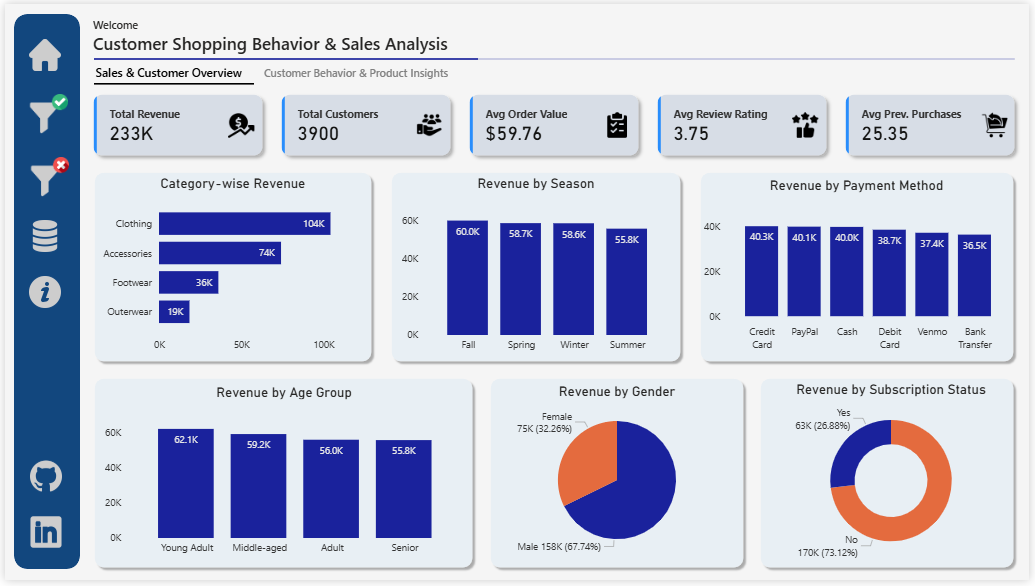

The page's visual inventory and layout, read from the dashboard file:
{"tool":"powerbi","page":{"name":"Sales & Customer Overview","canvas":[1280,720],"ordinal":0},"visuals":[{"type":"shape","box":[11.2,12.5,82.5,693.8],"z":0,"group":"g1"},{"type":"pageNavigator","box":[111.2,68.8,200,32.5],"z":0,"group":"g2"},{"type":"cardVisual","fields":{"Data":["customer.Total Revenue","customer.Total Customers","customer.Avg_Order_Value","customer.Avg Review Rating","customer.avg_previous_purchases"]},"box":[93.8,96.2,1186.2,110],"z":0},{"type":"textbox","box":[105,12.5,486.2,62.5],"z":1000},{"type":"pageNavigator","box":[323.7,68.8,267.5,32.5],"z":1000,"group":"g2"},{"type":"image","box":[20.4,265.6,60,49.8],"z":1000,"group":"g1"},{"type":"image","box":[20.2,38.3,59.6,49.5],"z":2000,"group":"g1"},{"type":"shape","box":[476.2,203.8,375,250],"z":2000},{"type":"image","title":"Clear Filter","box":[24.5,186.3,60,60],"z":3000,"group":"g1"},{"type":"shape","box":[599.4,461.2,330,250],"z":3000},{"type":"image","title":"Applied Filter","box":[24.1,107,60.3,60],"z":4000,"group":"g1"},{"type":"shape","box":[862.5,203.8,405,250],"z":4000},{"type":"shape","box":[105,203.8,360,250],"z":5000},{"type":"image","box":[20.4,334.7,60,49.8],"z":5000,"group":"g1"},{"type":"shape","box":[937.5,461.2,330,250],"z":6000},{"type":"image","box":[21.3,634.5,59.6,49.5],"z":6000,"group":"g1"},{"type":"shape","box":[105,461.2,486.2,250],"z":7000},{"type":"image","box":[21.3,564.7,59.6,49.5],"z":7000,"group":"g1"},{"type":"pieChart","title":"Revenue by Gender","fields":{"Y":["customer.Total Revenue"],"Category":["customer.gender"]},"box":[592.5,473.8,345,223.8],"z":8000},{"type":"donutChart","title":"Revenue by Subscription Status","fields":{"Y":["customer.Total Revenue"],"Category":["customer.subscription_status"]},"box":[935,471.2,345,230],"z":9000},{"type":"clusteredBarChart","title":"Category-wise Revenue","fields":{"Category":["customer.category"],"Y":["customer.Total Revenue"]},"box":[112.5,213.8,345,230],"z":10000},{"type":"columnChart","title":"Revenue by Season","fields":{"Y":["customer.Total Revenue"],"Category":["customer.season"]},"box":[491.2,213.8,345,230],"z":11000},{"type":"columnChart","title":"Revenue by Age Group","fields":{"Category":["customer.age_group"],"Y":["customer.Total Revenue"]},"box":[120,475,457.5,222.5],"z":12000},{"type":"shape","box":[111.2,62.5,1151.2,12.5],"z":13000},{"type":"shape","box":[111.2,62.5,480,12.5],"z":14000},{"type":"columnChart","title":"Revenue by Payment Method","fields":{"Category":["customer.payment_method"],"Y":["customer.Total Revenue"]},"box":[868.8,216.2,391.2,225],"z":15000},{"type":"group","id":"g1","title":"Sidebar","box":[11.2,12.5,82.5,693.8],"z":16000},{"type":"group","id":"g2","title":"Page Navigator","box":[111.2,68.8,480,32.5],"z":18000}]}

Visuals, with their boxes on the page's 1280x720 design canvas (x1, y1, x2, y2). These are canvas units, not pixel positions in the 1035x586 screenshot, which may show the page scaled, cropped or inside an application window:
shape: l=11, t=12, r=94, b=706
pageNavigator: l=111, t=69, r=311, b=101
cardVisual - customer.Total Revenue x customer.Total Customers: l=94, t=96, r=1280, b=206
textbox: l=105, t=12, r=591, b=75
pageNavigator: l=324, t=69, r=591, b=101
image: l=20, t=266, r=80, b=315
image: l=20, t=38, r=80, b=88
shape: l=476, t=204, r=851, b=454
"Clear Filter" image: l=24, t=186, r=84, b=246
shape: l=599, t=461, r=929, b=711
"Applied Filter" image: l=24, t=107, r=84, b=167
shape: l=862, t=204, r=1268, b=454
shape: l=105, t=204, r=465, b=454
image: l=20, t=335, r=80, b=384
shape: l=938, t=461, r=1268, b=711
image: l=21, t=634, r=81, b=684
shape: l=105, t=461, r=591, b=711
image: l=21, t=565, r=81, b=614
"Revenue by Gender" pieChart: l=592, t=474, r=938, b=698
"Revenue by Subscription Status" donutChart: l=935, t=471, r=1280, b=701
"Category-wise Revenue" clusteredBarChart: l=112, t=214, r=458, b=444
"Revenue by Season" columnChart: l=491, t=214, r=836, b=444
"Revenue by Age Group" columnChart: l=120, t=475, r=578, b=698
shape: l=111, t=62, r=1262, b=75
shape: l=111, t=62, r=591, b=75
"Revenue by Payment Method" columnChart: l=869, t=216, r=1260, b=441
"Sidebar" group: l=11, t=12, r=94, b=706
"Page Navigator" group: l=111, t=69, r=591, b=101
